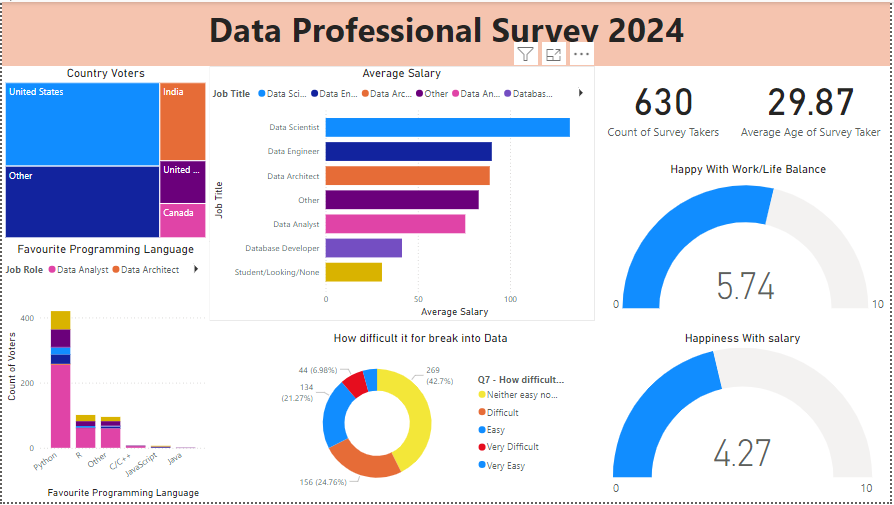

This screenshot's page, from the dashboard's own definition file:
{"tool":"powerbi","page":{"name":"Page 1","canvas":[1280,720],"ordinal":0},"visuals":[{"type":"textbox","box":[0,0,1280.2,93.6],"z":0},{"type":"card","fields":{"Values":["Count(Data Professional Survey.Unique ID)"]},"box":[853.3,92.8,196.6,111.3],"z":1},{"type":"card","fields":{"Values":["Avg(Data Professional Survey.Q10 - Current Age)"]},"box":[1048.1,92.8,231.9,111.3],"z":2},{"type":"barChart","title":"Average Salary ","fields":{"Category":["Data Professional Survey.Q1 - Which Title Best Fits your Current Role?.1"],"Y":["Avg(Data Professional Survey.Average Salary)"],"Series":["Data Professional Survey.Q1 - Which Title Best Fits your Current Role?.1"]},"box":[298.7,92.8,554.7,367.3],"z":3},{"type":"columnChart","title":"Favourite Programming Language","fields":{"Category":["Data Professional Survey.Q5 - Favorite Programming Language.1"],"Y":["CountNonNull(Data Professional Survey.Unique ID)"],"Series":["Data Professional Survey.Q1 - Which Title Best Fits your Current Role?.1"]},"box":[0,345,298.7,374.7],"z":4},{"type":"treemap","title":"Country Voters","fields":{"Group":["Data Professional Survey.Q11 - Which Country do you live in?.1"],"Values":["CountNonNull(Data Professional Survey.Q11 - Which Country do you live in?.1)"]},"box":[0,92.8,298.7,252.3],"z":5},{"type":"gauge","title":"Happy With Work/Life Balance","fields":{"Y":["Avg(Data Professional Survey.Q6 - How Happy are you in your Current Position with the following? (Work/Life Balance))"],"MinValue":["Min(Data Professional Survey.Q6 - How Happy are you in your Current Position with the following? (Work/Life Balance))1"],"MaxValue":["Max(Data Professional Survey.Q6 - How Happy are you in your Current Position with the following? (Work/Life Balance))2"]},"box":[870,230,410,230],"z":6},{"type":"gauge","title":"Happiness With salary","fields":{"Y":["Avg(Data Professional Survey.Q6 - How Happy are you in your Current Position with the following? (Salary))"],"MinValue":["Min(Data Professional Survey.Q6 - How Happy are you in your Current Position with the following? (Salary))"],"MaxValue":["Max(Data Professional Survey.Q6 - How Happy are you in your Current Position with the following? (Salary))"]},"box":[870,473,393.3,246.7],"z":7},{"type":"donutChart","title":" How difficult it for break into Data","fields":{"Category":["Data Professional Survey.Q7 - How difficult was it for you to break into Data?"],"Y":["CountNonNull(Data Professional Survey.Q7 - How difficult was it for you to break into Data?)"]},"box":[389.6,473,424.8,246.7],"z":8}]}

Visuals, with their boxes in screenshot pixels (x1, y1, x2, y2), scaled from the page's 1280x720 canvas onto the 894x505 screenshot:
textbox: [0,0,893,66]
card - Count(Data Professional Survey.Unique ID): [596,65,733,143]
card - Avg(Data Professional Survey.Q10 - Current Age): [732,65,893,143]
"Average Salary " barChart: [209,65,596,323]
"Favourite Programming Language" columnChart: [0,242,209,504]
"Country Voters" treemap: [0,65,209,242]
"Happy With Work/Life Balance" gauge: [608,161,893,323]
"Happiness With salary" gauge: [608,332,882,504]
" How difficult it for break into Data" donutChart: [272,332,569,504]
